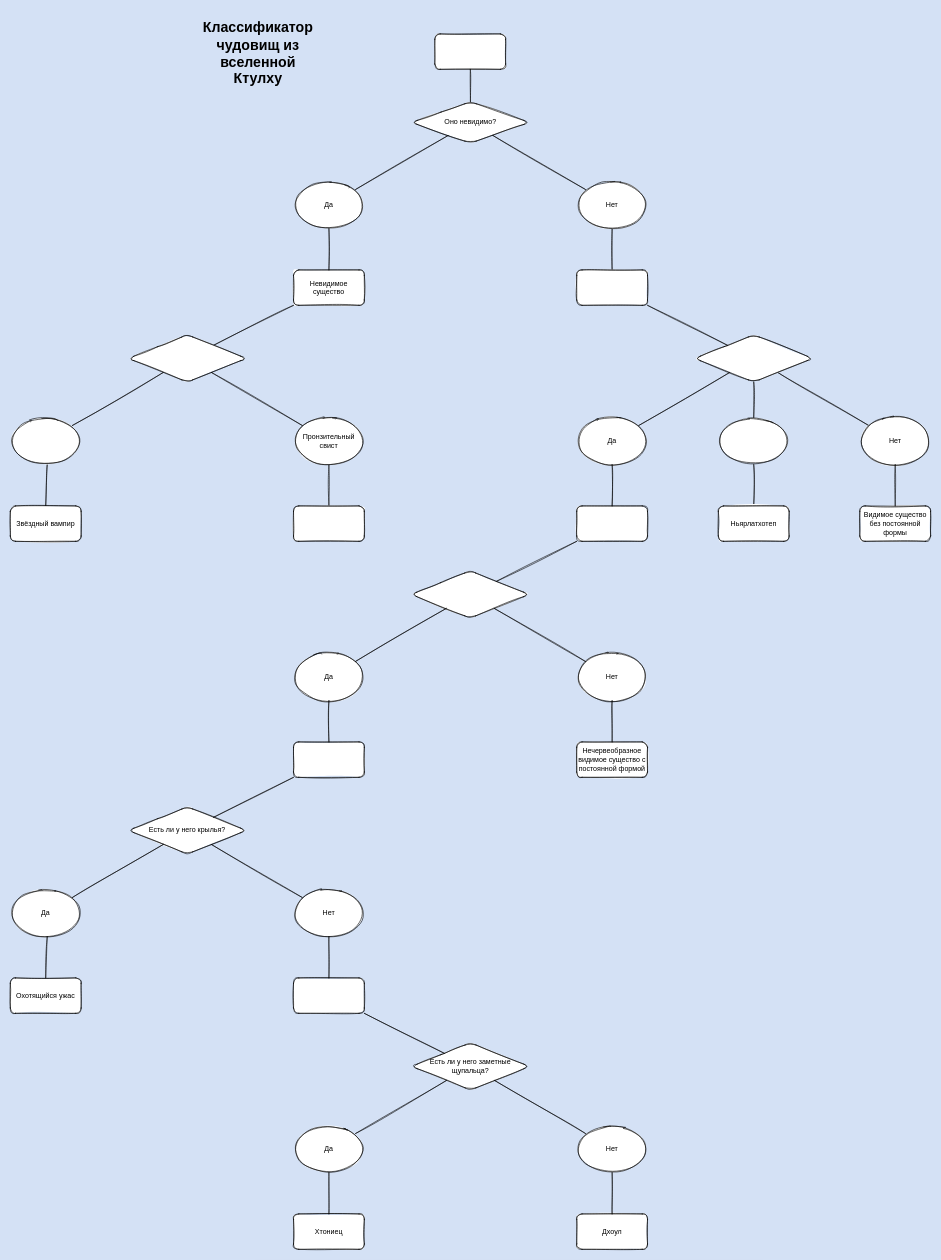
The diagram is 941 pixels wide and 1260 high, and some of its shapes have lost their labels. The shapes that lost their labels are listed below. From the top down, each one's centre as x and y in pixels, then its label:
the point at 470,51: Существо из бестиария Ктулху
the point at 612,287: Видимое существо
the point at 187,358: Какие звуки оно издаёт?
the point at 753,358: Оно имеет постоянную форму?
the point at 45,441: Хихиканье
the point at 753,441: Много разных устойчивых форм
the point at 328,523: Летучий полип
the point at 612,523: С постоянной формой
the point at 470,594: Оно червеобразно?
the point at 328,759: Червеобразное существо
the point at 328,995: Без крыльев
